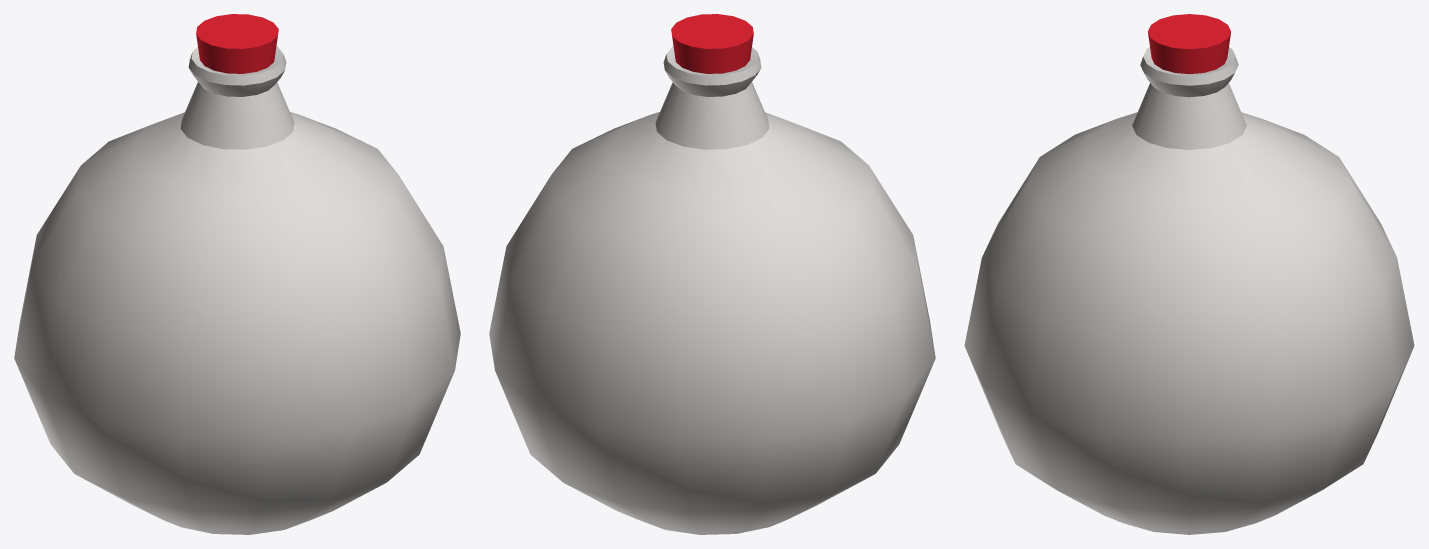
File: Healthpotion.fbx
3 renders of one model, left to right at view 1: azimuth 30°, elevation 25°; view 2: azimuth 150°, elevation 25°; view 3: azimuth 270°, elevation 25°, orthographic.
Parts seen in each view (by area): view 1: Sphere.006; view 2: Sphere.006; view 3: Sphere.006.
Boxes of the visible parts, box(x1,y1,x2,y2) form: Sphere.006: box(14, 14, 460, 534); Sphere.006: box(489, 14, 935, 534); Sphere.006: box(964, 14, 1414, 534).
Size of the model in its own units: 0.0962 by 0.1094 by 0.0962.
